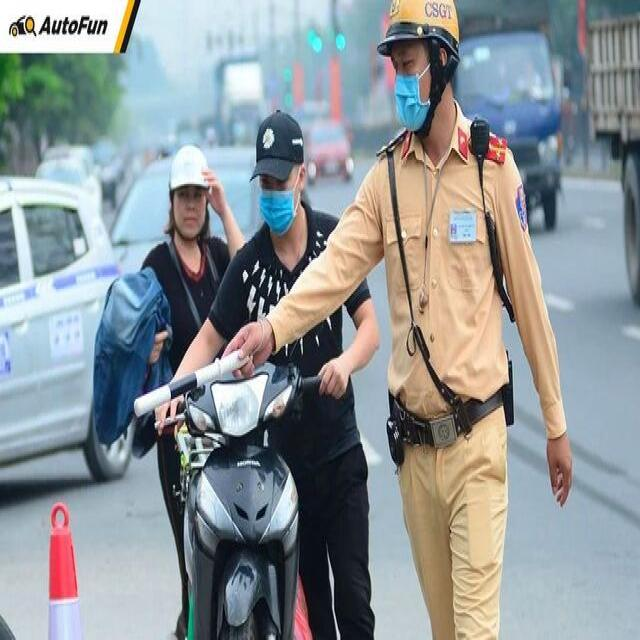no_helmet: (251, 111, 304, 181)
